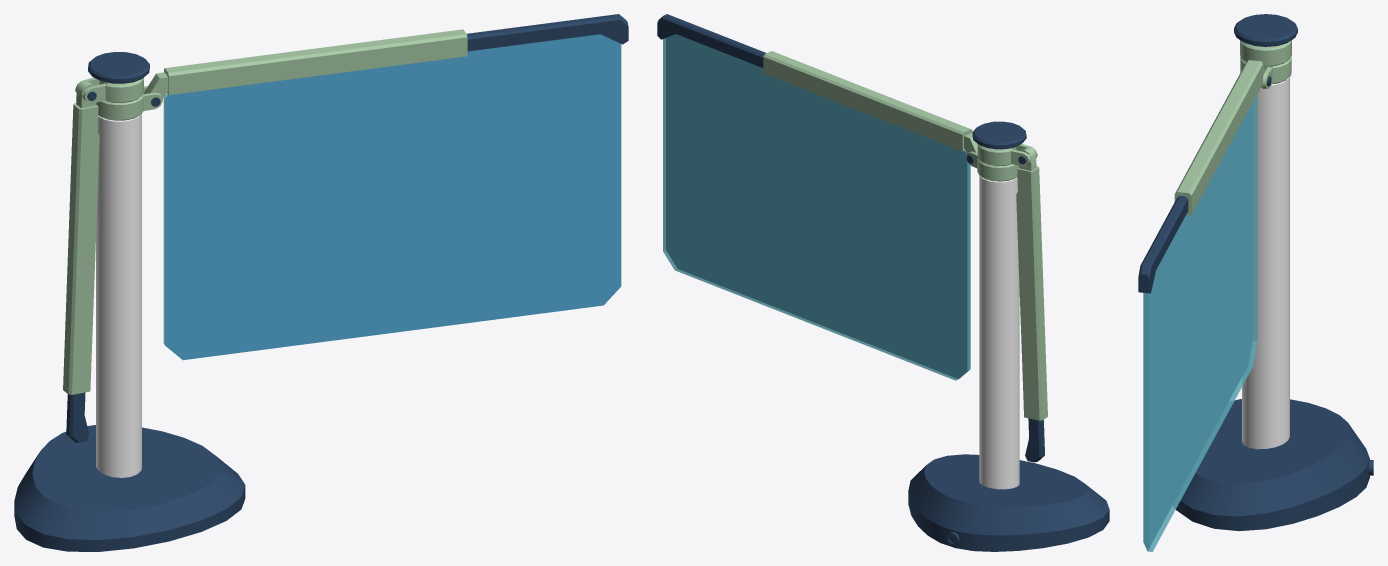
File: Misc_CyberScreen_B.fbx
The picture shows the model from 3 angles, left to right: view 1: azimuth 30°, elevation 25°; view 2: azimuth 150°, elevation 25°; view 3: azimuth 270°, elevation 25°; orthographic projection. The views are drawn at different scales.
Visible parts, largest first — view 1: Misc_CyberScreen_B.001; view 2: Misc_CyberScreen_B.001; view 3: Misc_CyberScreen_B.001.
Part boxes in pixels (box(x1,y1,x2,y2)): Misc_CyberScreen_B.001: box(14, 14, 628, 551); Misc_CyberScreen_B.001: box(657, 14, 1109, 551); Misc_CyberScreen_B.001: box(1138, 14, 1373, 551).
Bounding box in the file's own units: 0.4946 × 0.3747 × 0.1768.
